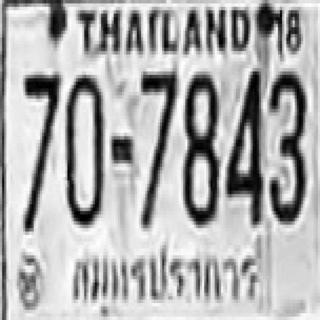N00: (64, 72, 102, 221)
N03: (267, 68, 305, 221)
N04: (225, 68, 261, 221)
N07: (139, 68, 177, 225), (23, 72, 59, 228), (23, 72, 59, 180)
N08: (181, 72, 217, 221)
P57: (68, 238, 260, 318)
